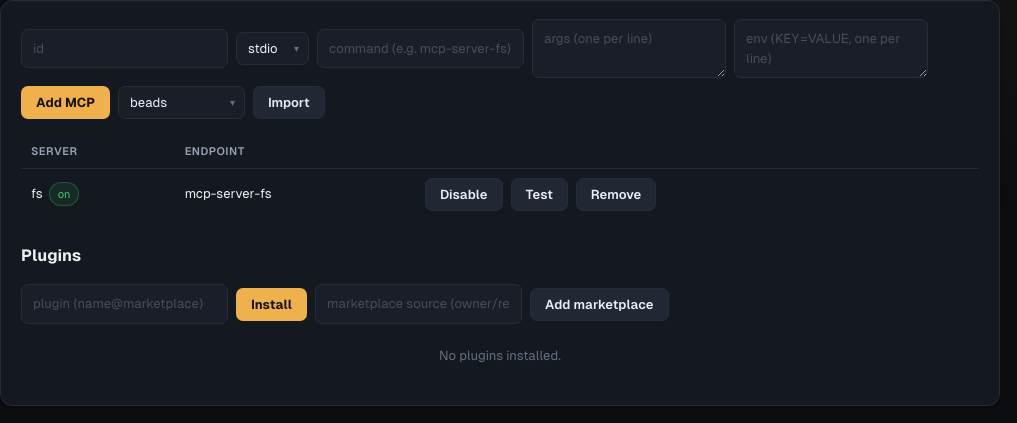
Test: Connectors status feedback › shows an Unreachable chip when Test fails
Expected: the text "mcp-server-fs" is shown, [175,168,415,220]
Click the button "Test": click(539, 194) [510,178,568,210]
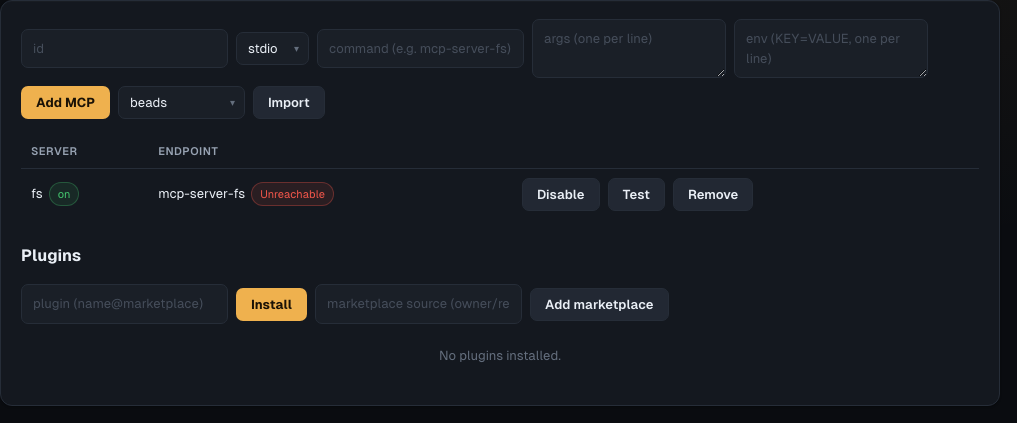
Expected: the text "Unreachable" is shown, [251,182,334,206]
